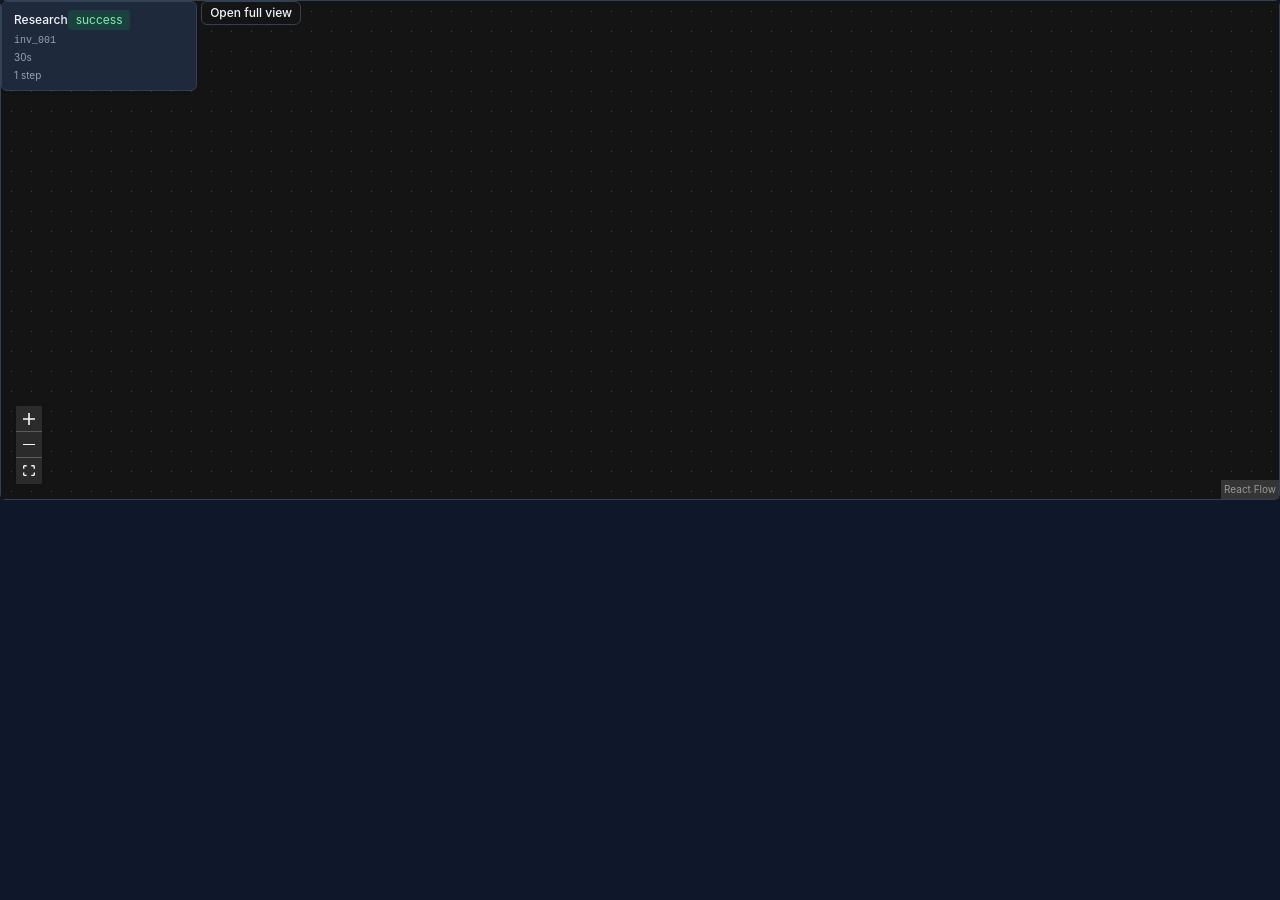
Scenario: InvocationGraph step detail › names the pop-up after the resolved step label
What coordinates should you click on to do the following:
click the button "Research success inv_001 30s 1 step"
I would click on:
 (99, 46)
Its box is [1,1,197,91].
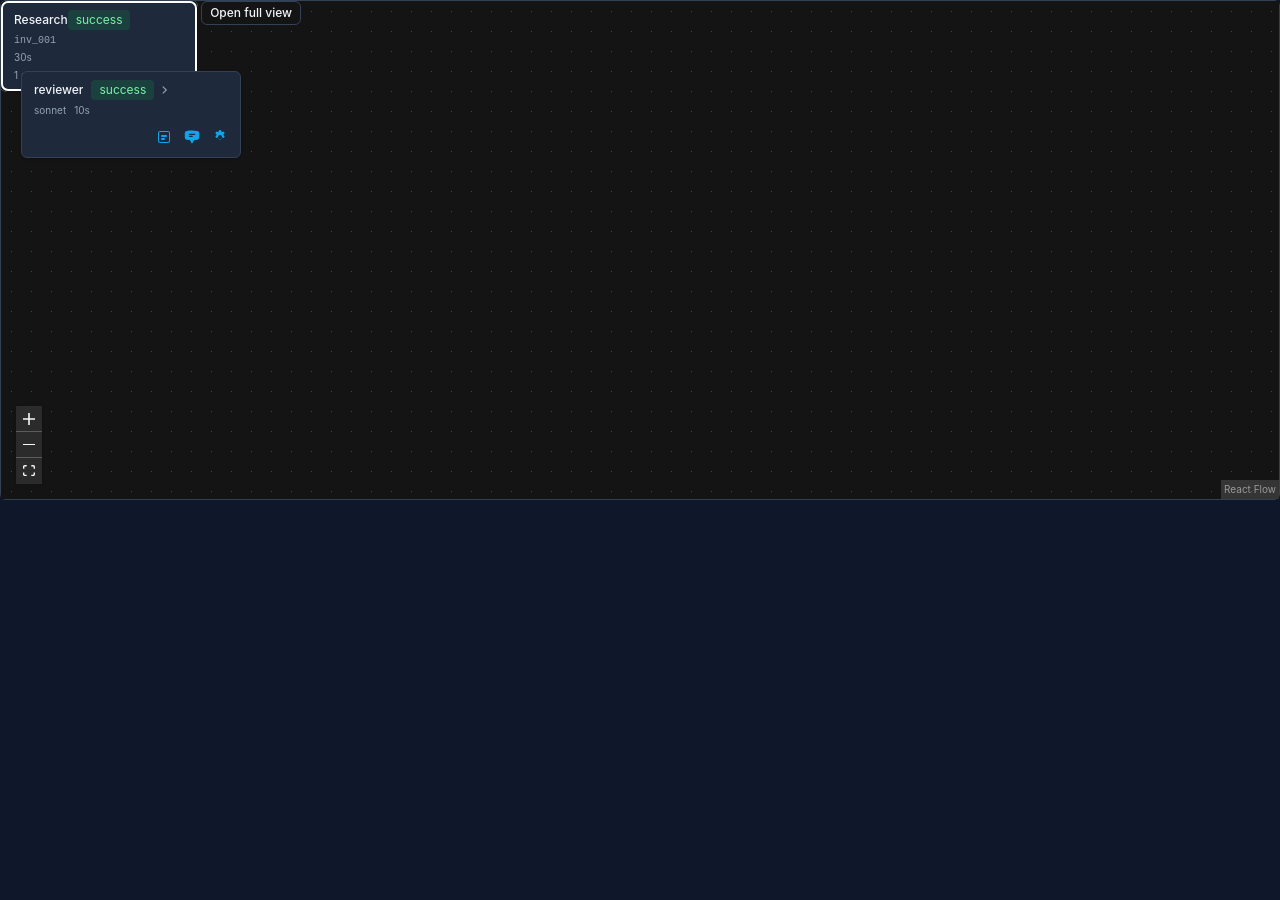
Result: the element with test id "workflow-node-inv_001-step_2" is shown at [21,71,241,158]
What coordinates should you click on to do the following:
click the button named "View output of reviewer (step_2)"
I would click on:
 (164, 137)
Its box is [152,125,176,149].
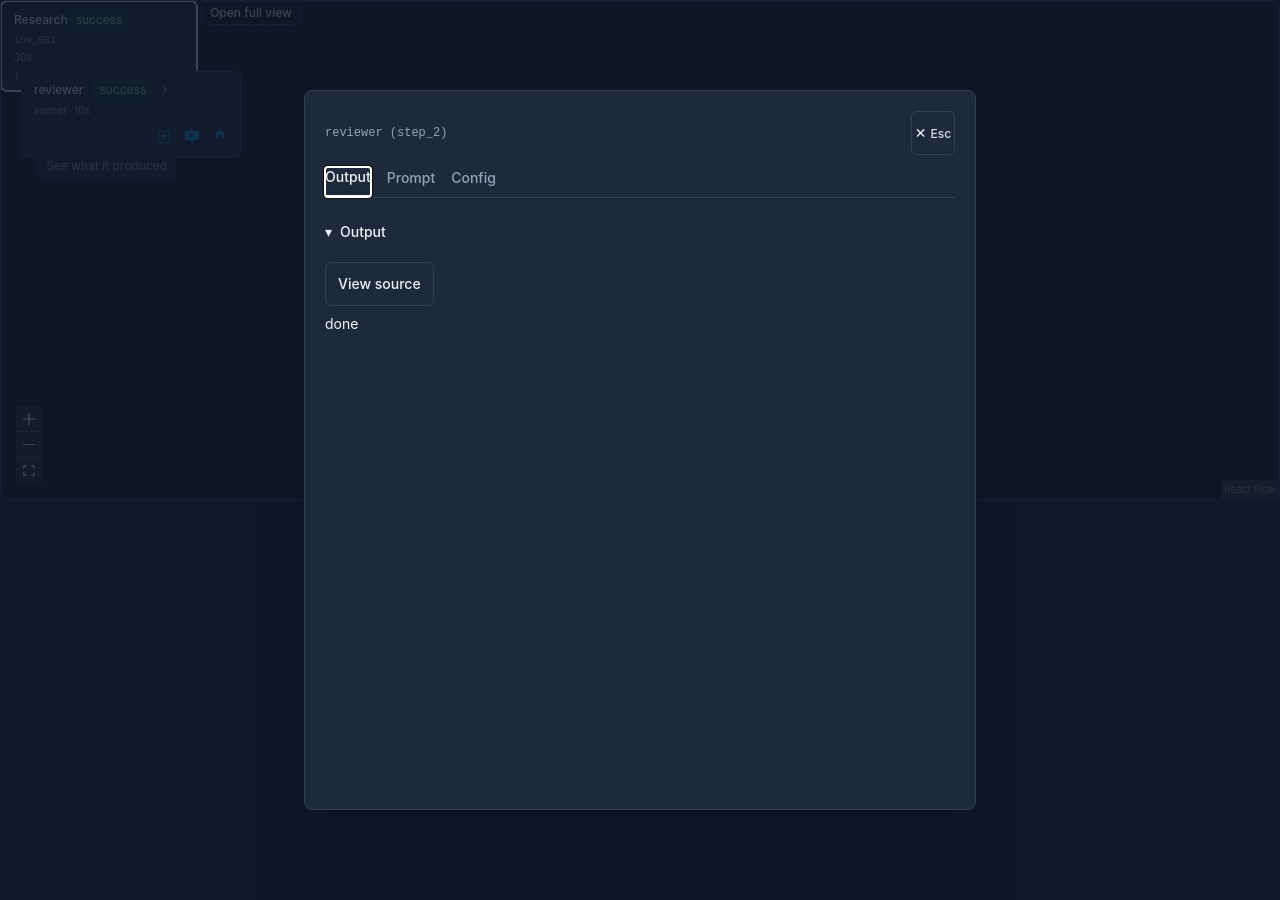
Result: the heading "reviewer (step_2)" is shown at [325,125,447,141]
